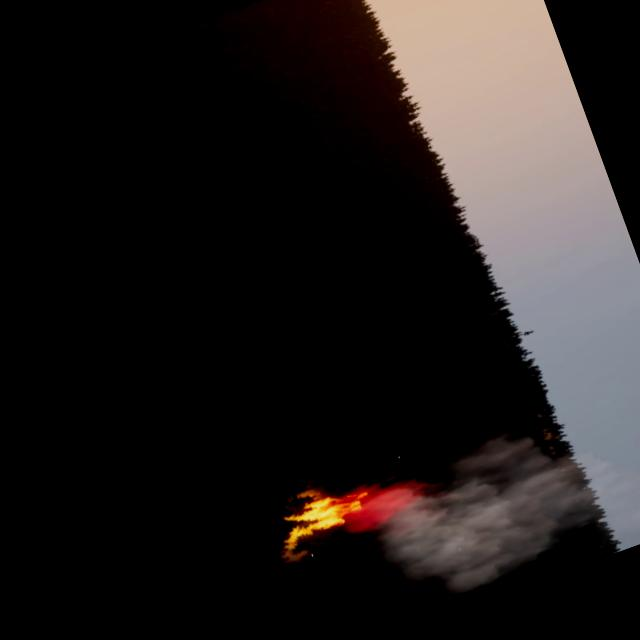fire: (256, 472, 377, 562)
smoke: (336, 417, 618, 626)
